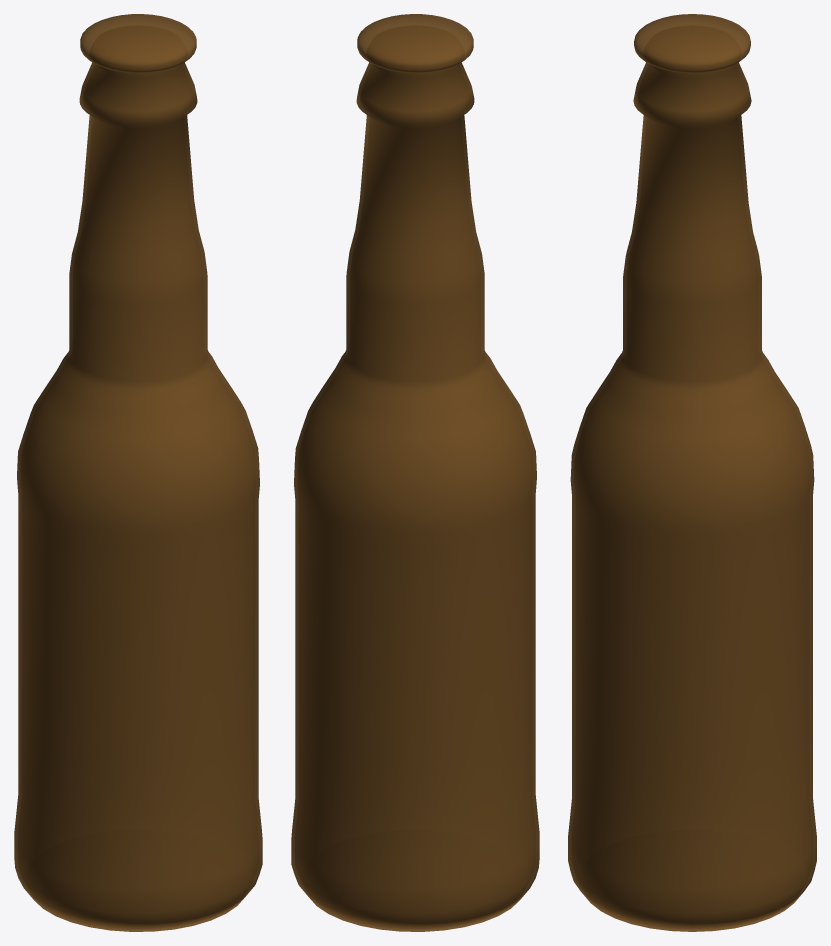
File: bearBottle4.gltf
The picture shows the model from 3 angles, left to right: view 1: azimuth 30°, elevation 25°; view 2: azimuth 150°, elevation 25°; view 3: azimuth 270°, elevation 25°; orthographic projection.
Visible parts, largest first — view 1: Cylinder, Cylinder.001; view 2: Cylinder, Cylinder.001; view 3: Cylinder, Cylinder.001.
Boxes of the visible parts, x1,y1,x2,y2 form: Cylinder: [14, 26, 262, 931]; Cylinder.001: [80, 14, 196, 72]; Cylinder: [291, 26, 539, 931]; Cylinder.001: [357, 14, 473, 72]; Cylinder: [568, 26, 816, 931]; Cylinder.001: [634, 14, 750, 72].
Bounding box in the file's own units: 1.22 × 4.63 × 1.22.
